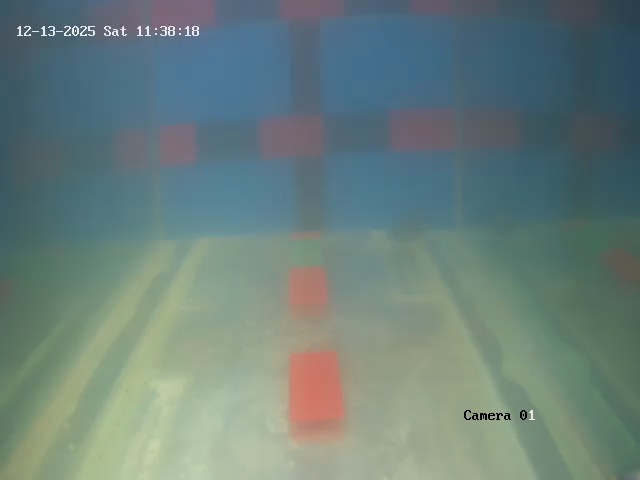fish: (383, 213, 429, 247)
